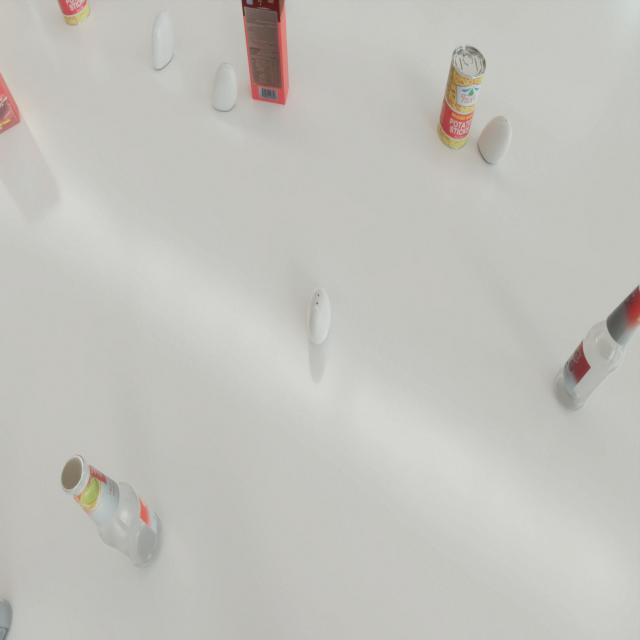Bottle: (60, 454, 164, 570), (554, 272, 640, 412)
HelloPanda: (240, 0, 289, 105)
Potato_sticks: (438, 44, 487, 150)
Salt: (478, 115, 512, 164), (150, 9, 173, 70), (211, 62, 238, 111), (308, 288, 330, 344)
